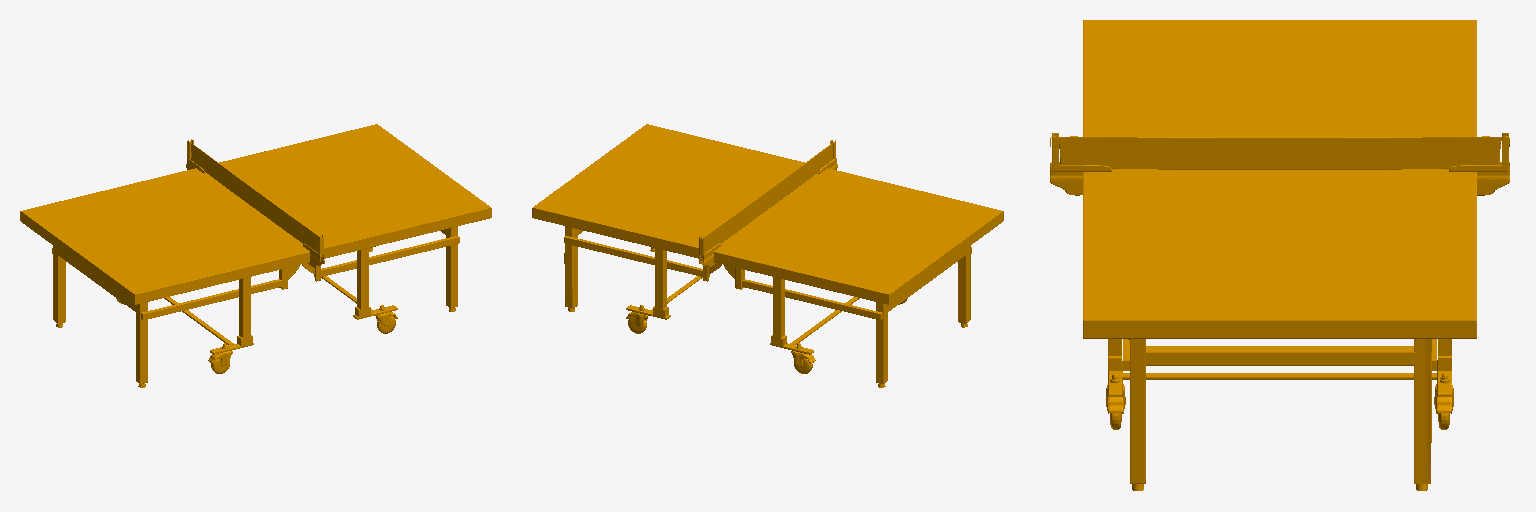
The robot description file, URDF, robot "ball":
<?xml version="1.0" ?>
<robot name="ball" xmlns:xacro="http://www.ros.org/wiki/xacro">
  <link name="ball">
    <inertial>
      <mass value=".25"/>
      <origin rpy="0 0 0" xyz="0 0 0"/>
      <inertia ixx="1e-4" ixy="0" ixz="0" iyy="1e-4" iyz="0" izz="1e-4"/>
    </inertial>
    <visual>
      <origin rpy="0 0 0" xyz="0 0 0"/>
      <geometry>
        <mesh filename="pingpong_table/10520_pingpongtable_L2.obj"/>
      </geometry>
      <!-- <material name="Grey">
        <color rgba="0.65 0.65 0.65 1"/>
      </material> -->
      <scale xyz="0.01 0.01 .0.01"/>
    </visual>
    <collision>
      <origin rpy="0 0 0" xyz="0 0 0"/>
      <geometry>
        <mesh filename="pingpong_table/10520_pingpongtable_L2.obj"/>
      </geometry>
      <material name="pingpong_table_material">
        <friction>
          <ode>
            <mu value="0.8"/>
          </ode>
        </friction>
        <restitution value="0.9"/>
      </material>
      <scale xyz="0.01 0.01 0.01"/>
    </collision>
  </link>
</robot>

--- Render facts (derived) ---
The picture shows the robot from 3 angles, left to right: view 1: azimuth 30°, elevation 25°; view 2: azimuth 150°, elevation 25°; view 3: azimuth 270°, elevation 25°; orthographic projection.
Model ball with 1 links and 0 joints (none), rooted at ball, posed all joints at 0.
Visible links, largest first — view 1: ball; view 2: ball; view 3: ball.
Boxes of the visible links, left/top/right/bottom form: ball: left=20, top=124, right=491, bottom=387; ball: left=532, top=124, right=1003, bottom=387; ball: left=1050, top=20, right=1509, bottom=490.
Bounding box of the posed robot: 2.76 × 1.79 × 0.9642 m (x, y, z).
1 mesh visuals loaded from 1 distinct referenced files (1 OBJ).